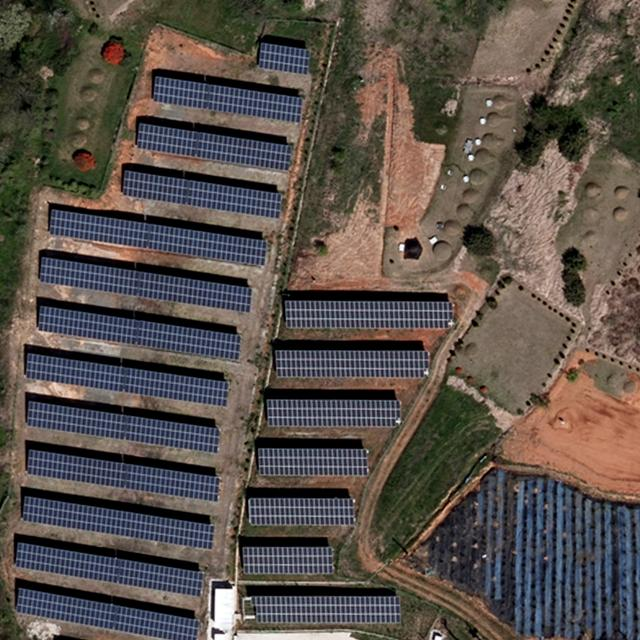panel: (46, 206, 267, 268), (37, 253, 255, 313), (35, 301, 243, 360), (22, 351, 230, 408), (24, 445, 221, 503), (12, 539, 206, 597), (20, 493, 215, 548), (22, 400, 222, 452), (13, 584, 200, 637), (120, 167, 282, 221), (133, 118, 292, 173), (149, 71, 305, 125), (282, 298, 455, 331), (271, 347, 431, 380), (251, 594, 402, 625), (264, 397, 403, 430), (254, 445, 368, 478), (245, 495, 356, 527), (241, 544, 334, 576), (256, 37, 312, 76)
